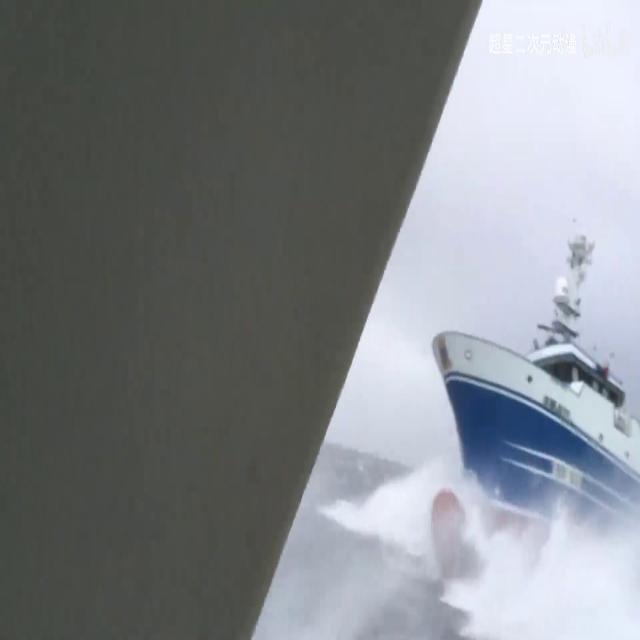houseboat: (418, 225, 640, 587)
